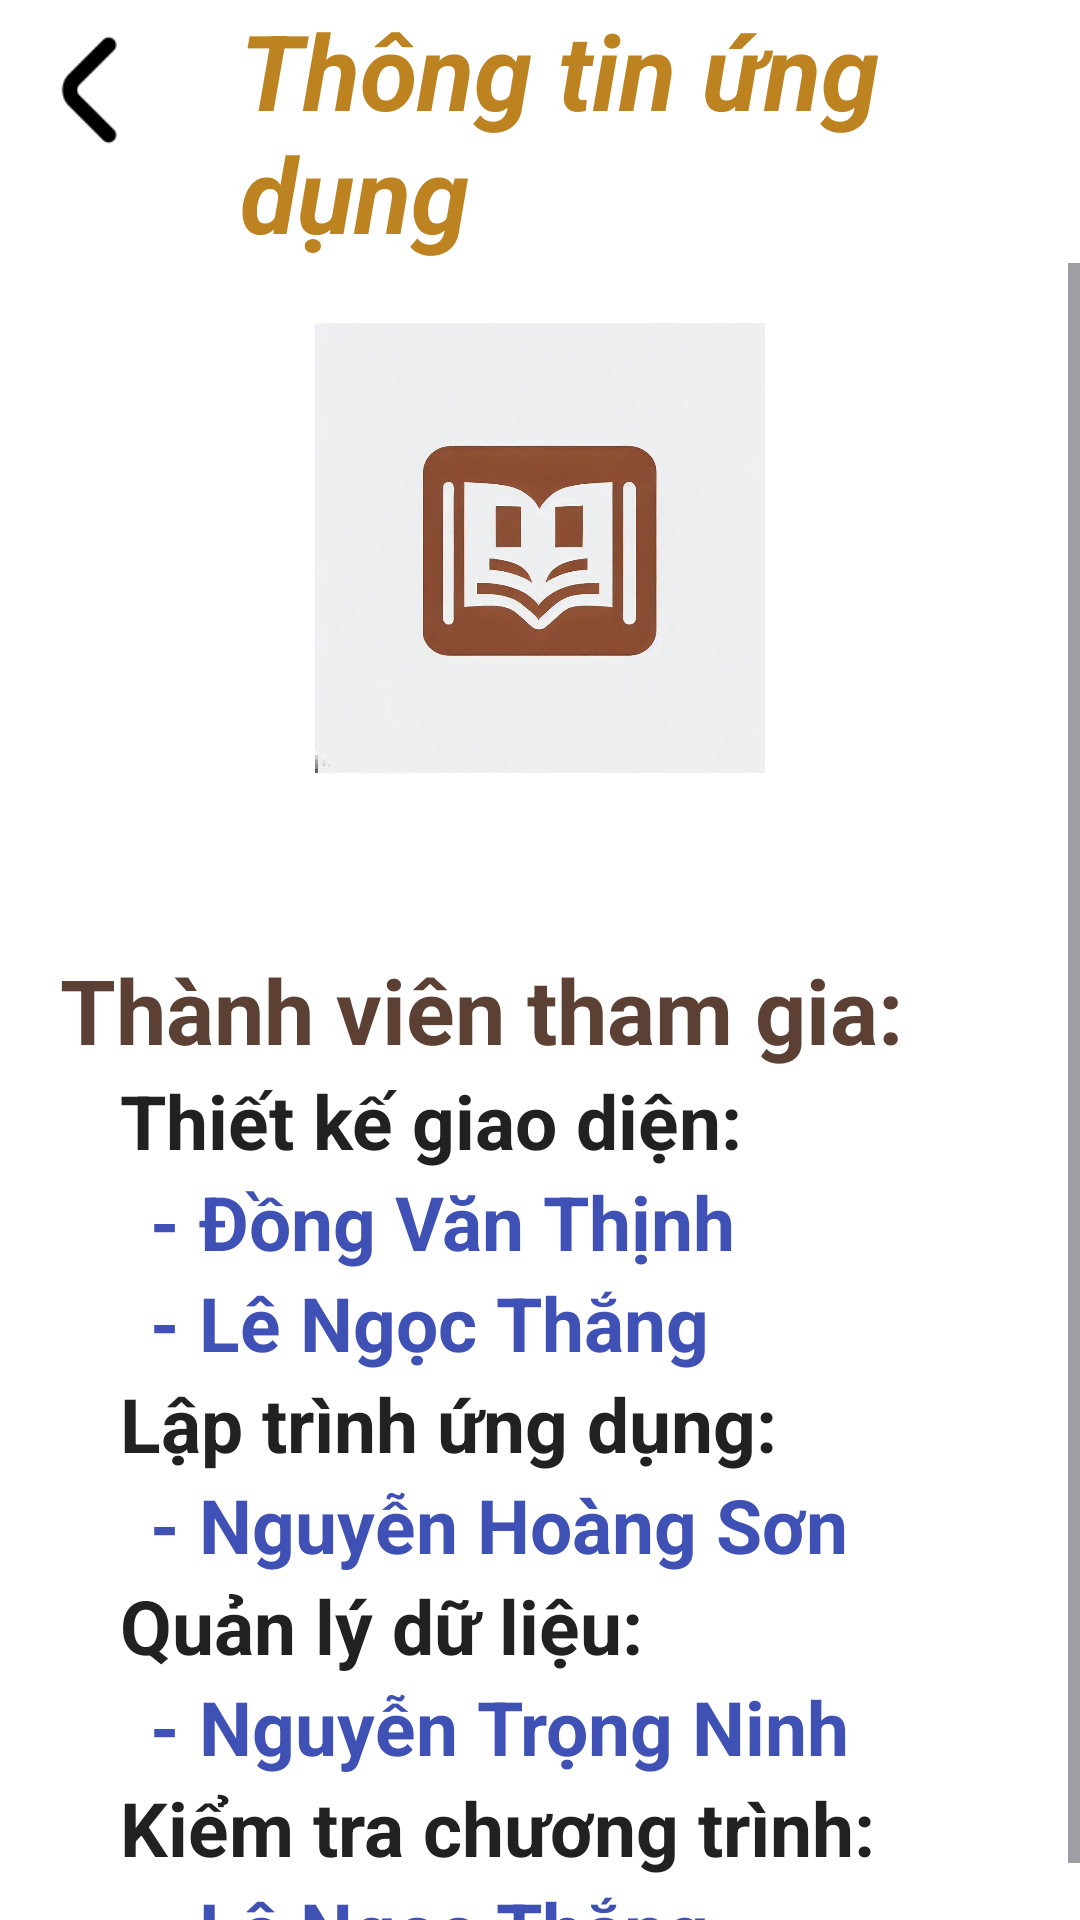

Point at icon controls on the screen. Image size 1080px x 1920px, points as [x,y].
angle left: [89,90]
